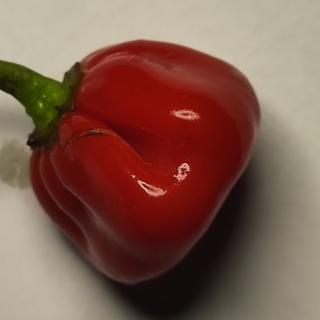striped: (59, 124, 129, 152)
